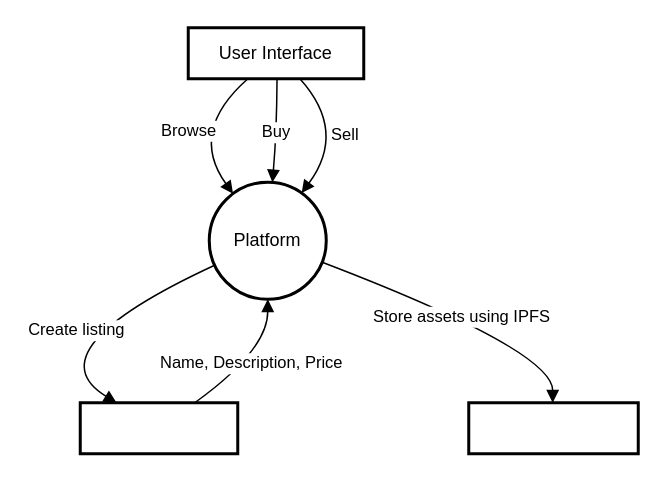
The diagram is 665 pixels wide and 480 high, and some of its shapes have lost their labels. The centre of each missing label's shape, as x and y in pixels:
"Asset Listing" belongs at point 158,427.
"Asset Storage" belongs at point 552,427.
